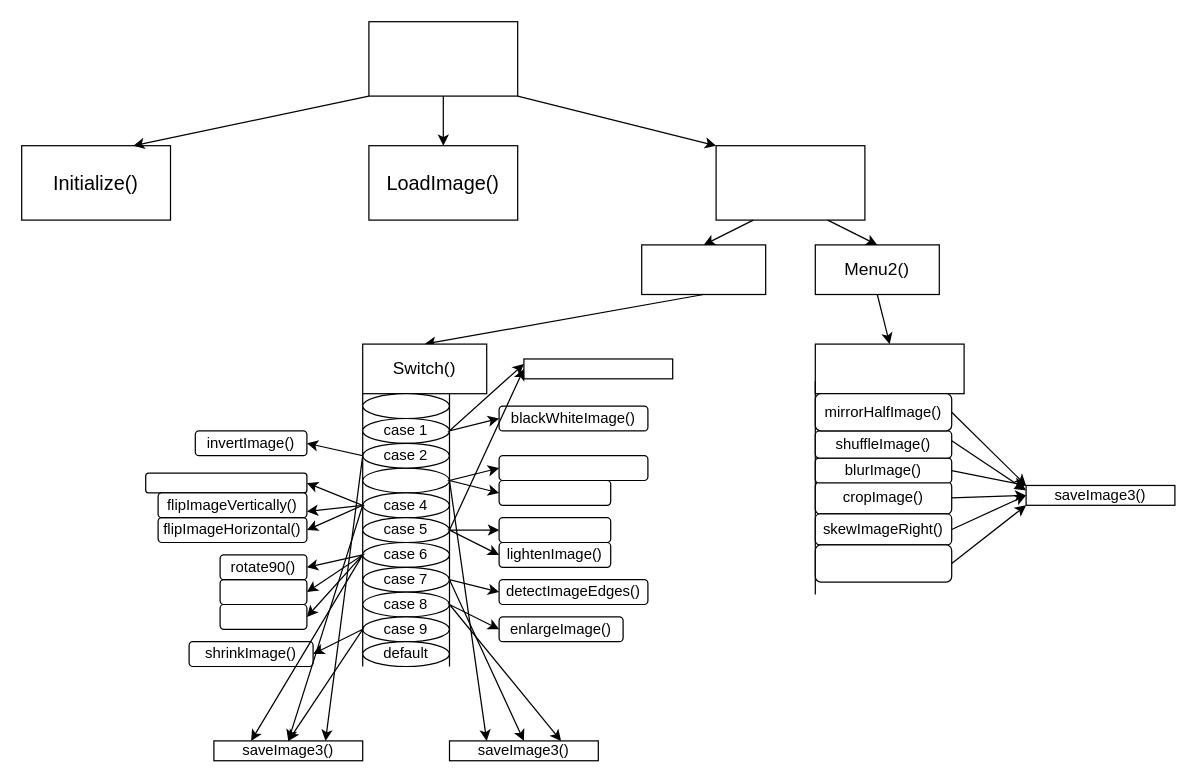
Some shapes in this 1197 by 782 pixel diagram are drawn without their labels. The shapes that lost their labels are listed below. From the top down, each one's centre as x and y in pixels, then its label:
At point (443, 58): "Main ()".
At point (790, 182): "Menu()".
At point (703, 269): "Menu1()".
At point (598, 368): "saveImage()".
At point (889, 368): "if...else".
At point (405, 405): "case 0".
At point (225, 482): "flipVerticalHorizontal()".
At point (405, 480): "case 3".
At point (573, 467): "mergeImageLoad()".
At point (554, 492): "mergeImage()".
At point (554, 529): "darkenImage()".
At point (883, 563): "skewImageUp()".
At point (263, 591): "rotate180()".
At point (263, 616): "rotate360()".
